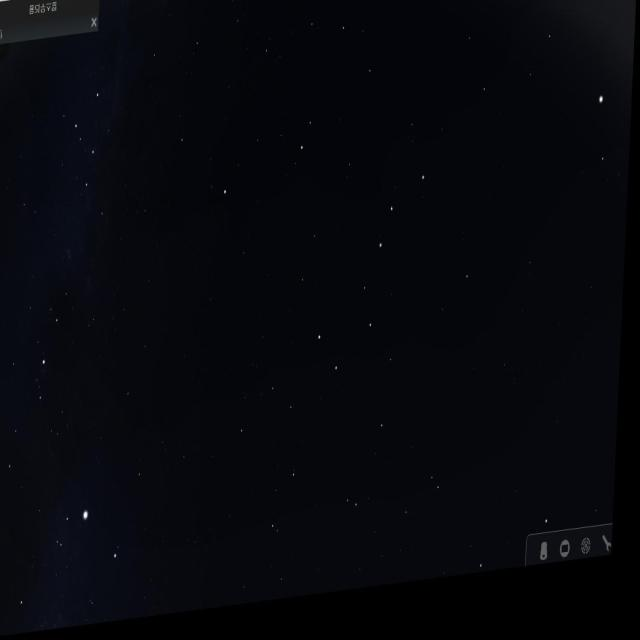cassiopeia: (61, 75, 125, 240)
ursa_major: (313, 171, 431, 396)
